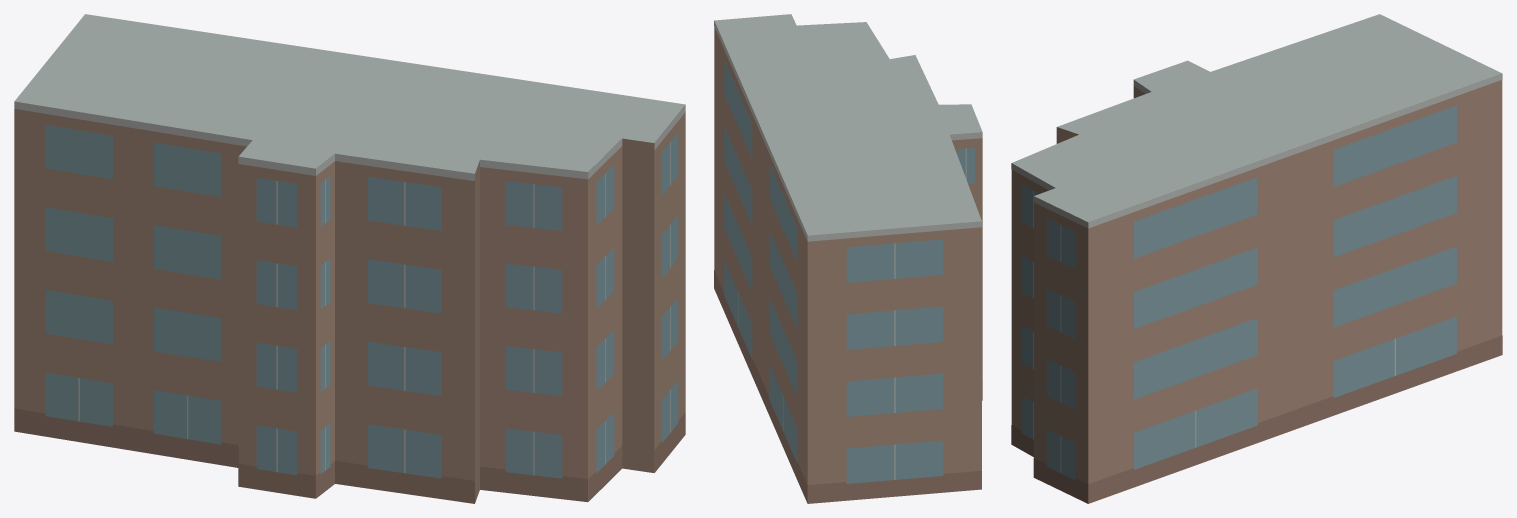
Rendered from survey-upis-32922752.glb.
The picture shows the model from 3 angles, left to right: view 1: azimuth 30°, elevation 25°; view 2: azimuth 150°, elevation 25°; view 3: azimuth 270°, elevation 25°; orthographic projection. The views are drawn at different scales.
Parts seen in each view (by area): view 1: survey-upis-32922752.tmp; view 2: survey-upis-32922752.tmp; view 3: survey-upis-32922752.tmp.
Part boxes in pixels (<box>): survey-upis-32922752.tmp: <box>14,14,685,503</box>; survey-upis-32922752.tmp: <box>714,14,982,503</box>; survey-upis-32922752.tmp: <box>1011,14,1502,503</box>.
Bounding box in the file's own units: 17.46 × 11 × 17.39.
